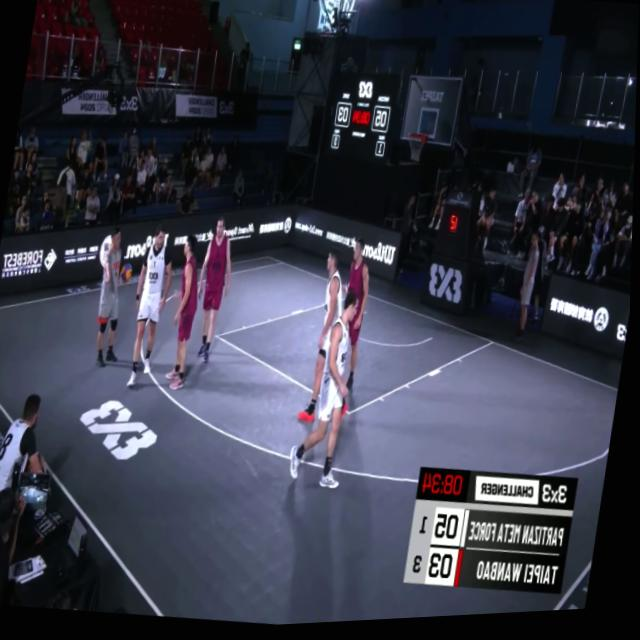ball: (119, 258, 137, 290)
hoop: (403, 129, 433, 173)
player: (284, 288, 367, 500), (298, 247, 373, 434), (125, 220, 180, 393), (189, 217, 241, 377), (330, 242, 377, 406), (166, 231, 211, 395)
